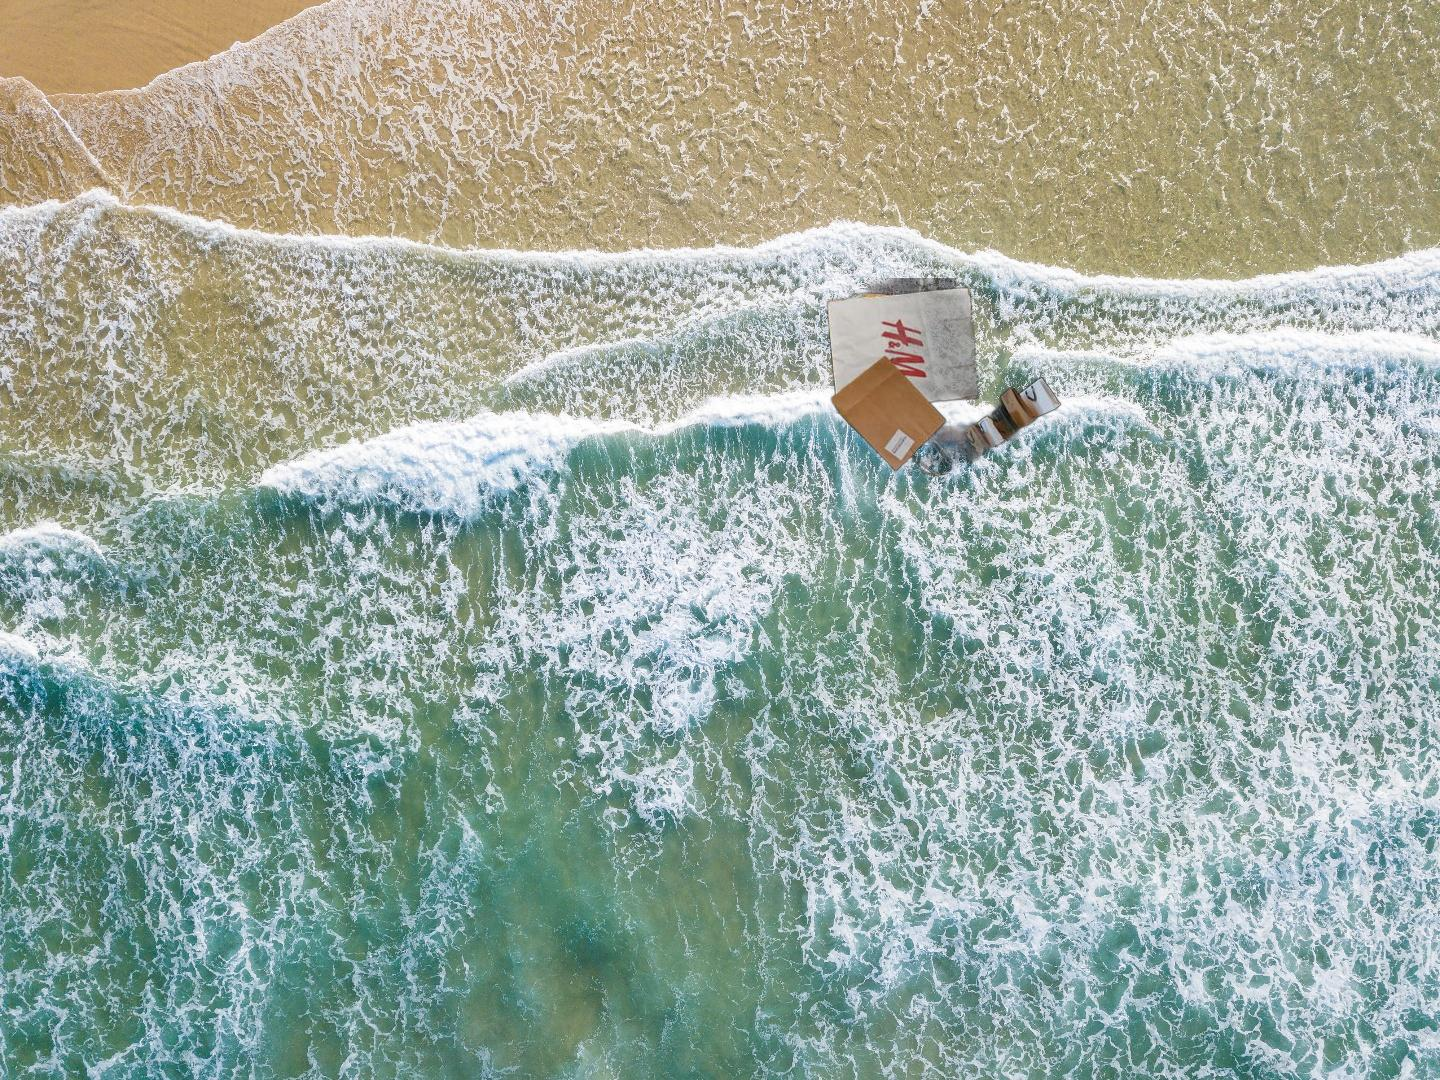paper-bag: (808, 278, 1064, 528)
